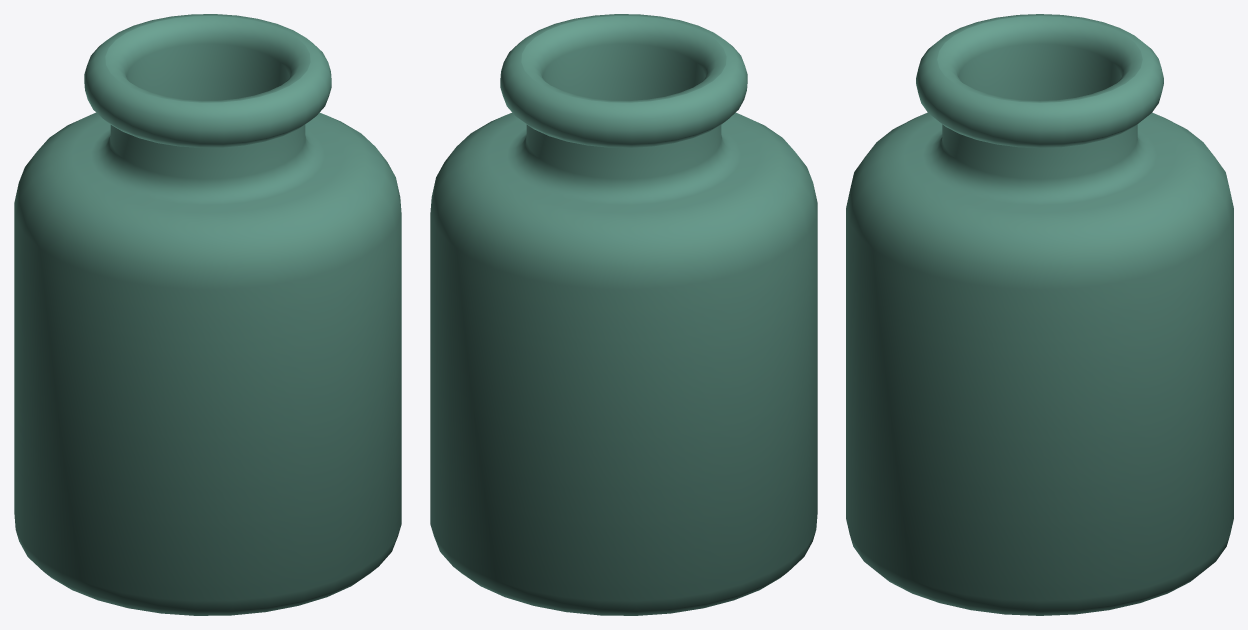
File: Pot1.fbx
3 views of the same model, side by side, from view 1: azimuth 30°, elevation 25°; view 2: azimuth 150°, elevation 25°; view 3: azimuth 270°, elevation 25° (orthographic).
Parts seen in each view (by area): view 1: Pot1; view 2: Pot1; view 3: Pot1.
Part boxes in pixels (left/top/right/bottom): Pot1: left=14, top=14, right=401, bottom=615; Pot1: left=430, top=14, right=817, bottom=615; Pot1: left=846, top=14, right=1233, bottom=615.
Size of the model in its own units: 23 by 31.64 by 23.
